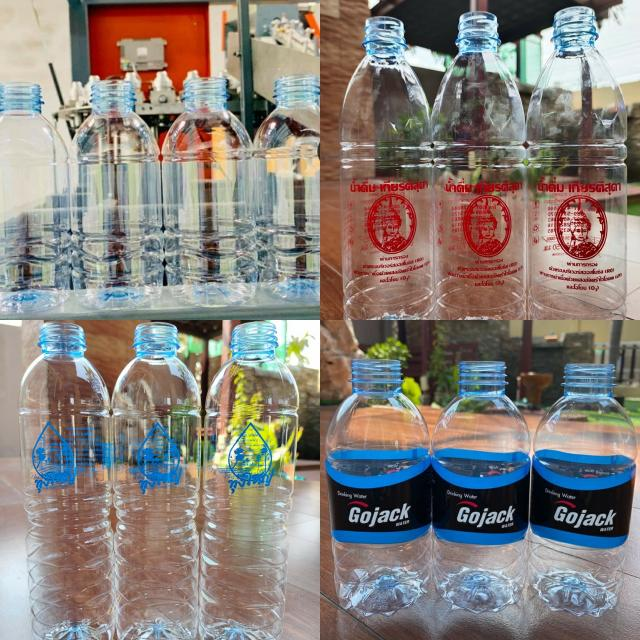plastik: (200, 321, 299, 640), (528, 6, 626, 319), (19, 322, 114, 640), (431, 11, 525, 320), (340, 16, 434, 319), (111, 322, 200, 640), (529, 364, 638, 616), (325, 359, 431, 616), (432, 361, 530, 614), (162, 78, 258, 307), (71, 80, 164, 309), (0, 82, 70, 312), (254, 74, 320, 301)
